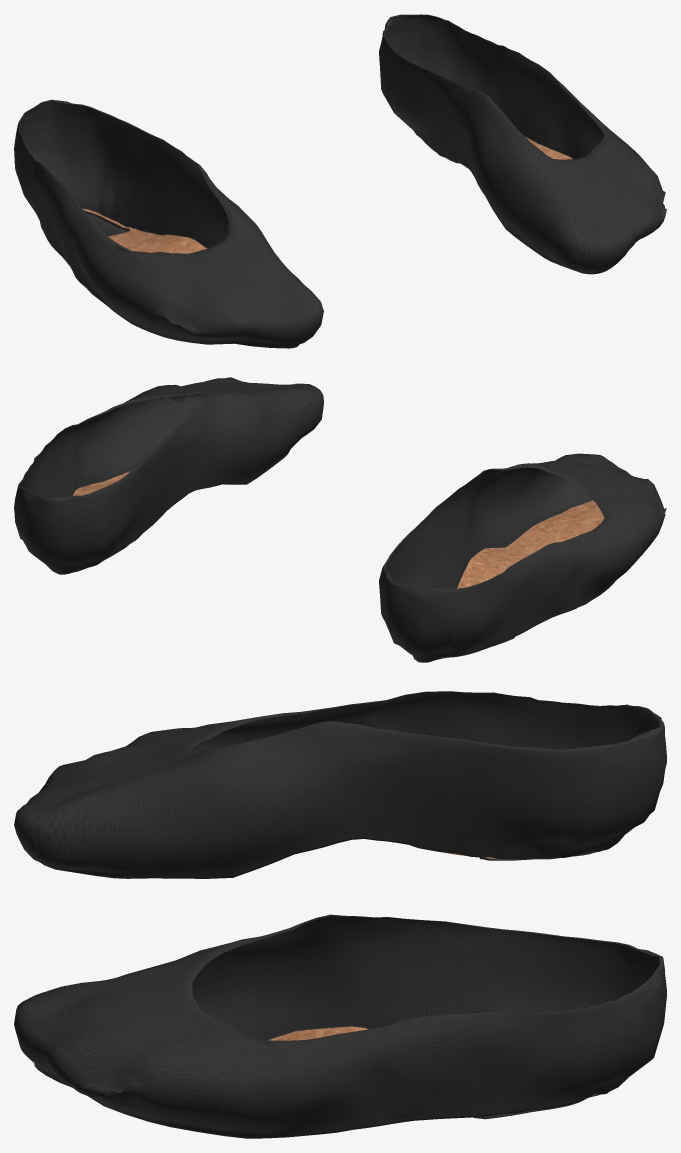
The model's file is shoes_flats.gltf.
3 renders of one model, top to bottom at view 1: azimuth 30°, elevation 25°; view 2: azimuth 150°, elevation 25°; view 3: azimuth 270°, elevation 25°, orthographic. The views are drawn at different scales.
Parts seen in each view (by area): view 1: shoes_flats; view 2: shoes_flats; view 3: shoes_flats.
Part boxes in pixels (x1,y1,x2,y2): shoes_flats: (14,14,666,348); shoes_flats: (14,377,666,662); shoes_flats: (14,691,666,1138).
Size of the model in its own units: 0.3451 by 0.0725 by 0.2675.
Materials: 1 (1 with a texture image).
